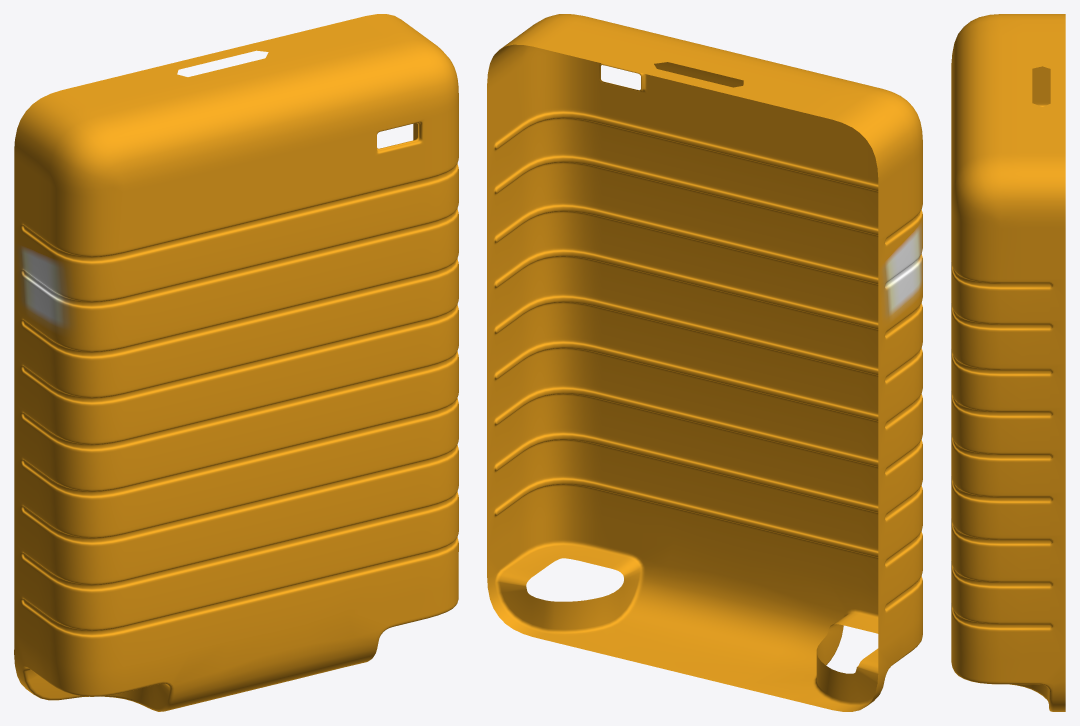
Rendered from Suitcase_BodyFront_3.0_Interior.fbx.
3 renders of one model, left to right at view 1: azimuth 30°, elevation 25°; view 2: azimuth 150°, elevation 25°; view 3: azimuth 270°, elevation 25°, orthographic. The views are drawn at different scales.
Parts seen in each view (by area): view 1: shellFront_mesh.001; view 2: shellFront_mesh.001; view 3: shellFront_mesh.001.
Boxes of the visible parts, x1,y1,x2,y2 form: shellFront_mesh.001: (14,14,458,711); shellFront_mesh.001: (487,14,922,711); shellFront_mesh.001: (951,14,1065,711).
Size of the model in its own units: 37.22 by 53.77 by 10.14.
1 material, 1 textured.
